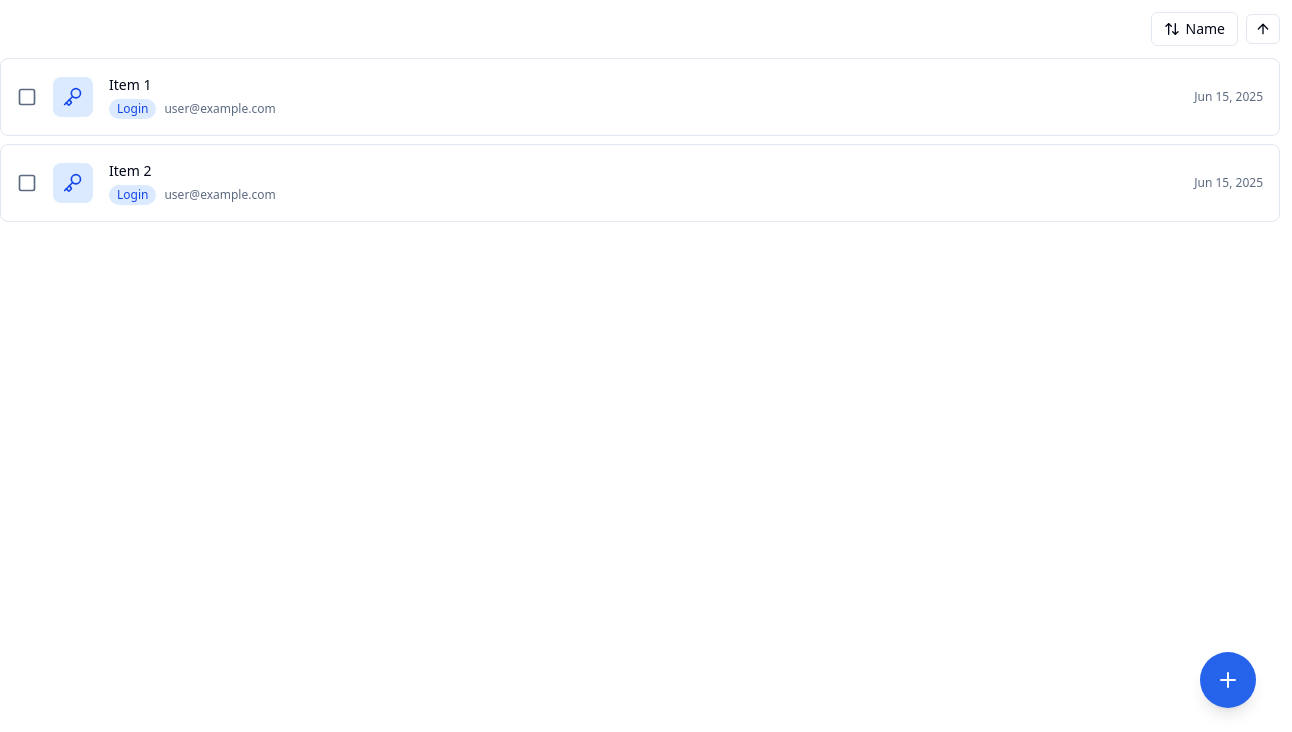
Scenario: VaultList › Multi-select mode › clears selection when Clear button is clicked
Click the checkbox named "Select item" at (27, 97), box 17,87 -> 37,107
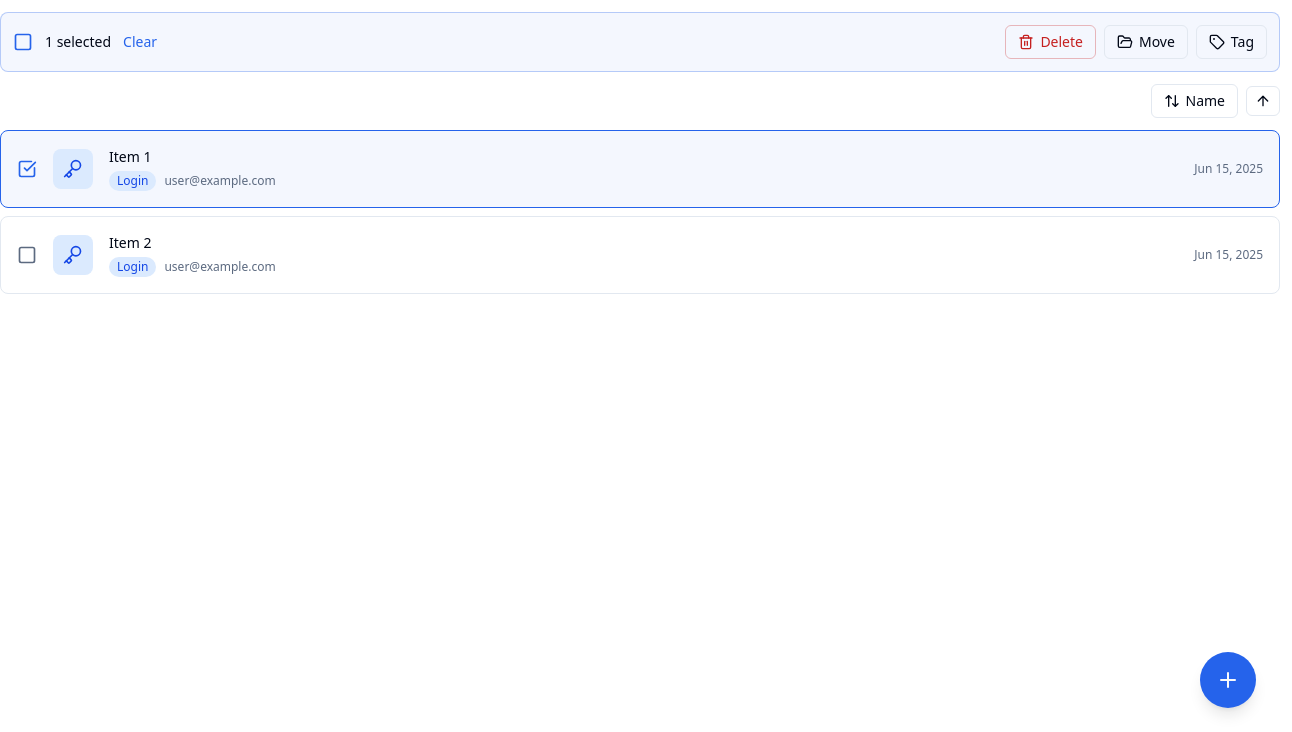
Check: the text "1 selected" is shown, box 45,32 -> 111,52
Click the button "Clear" at (140, 42), box 123,32 -> 157,52
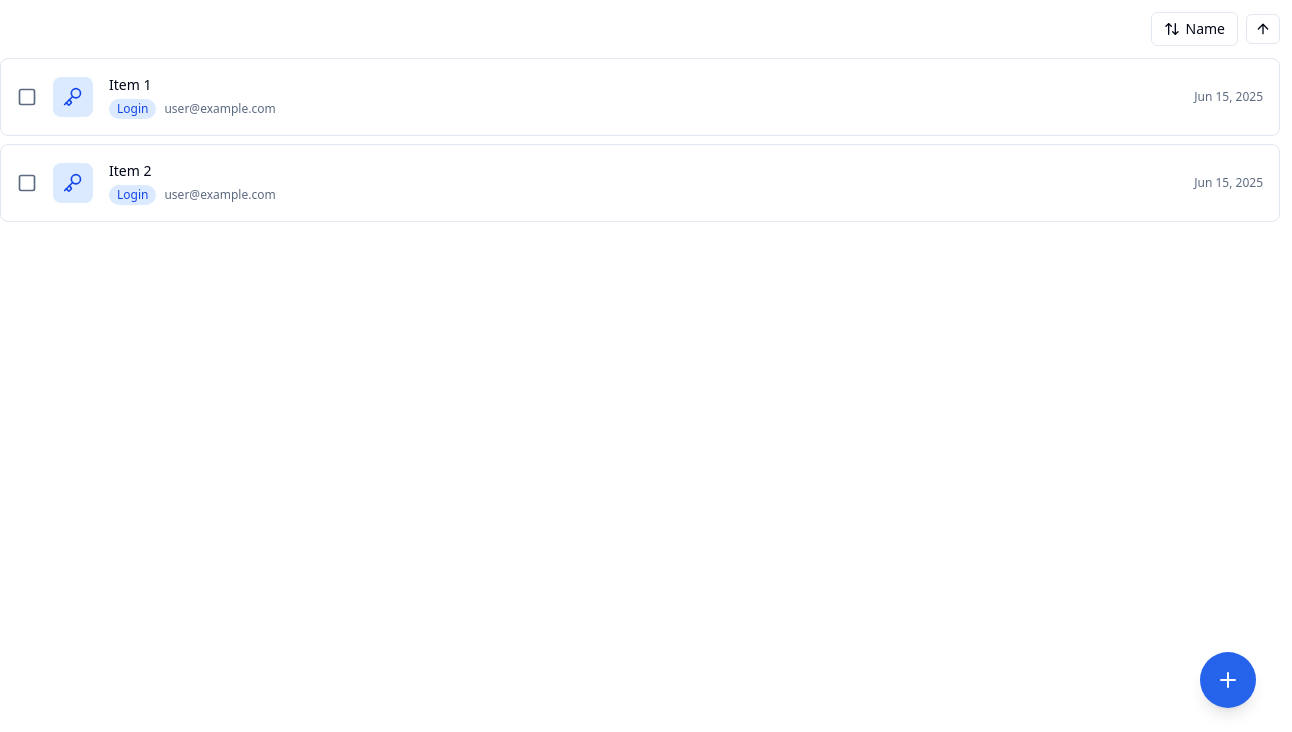
Check: the text "1 selected" is gone
